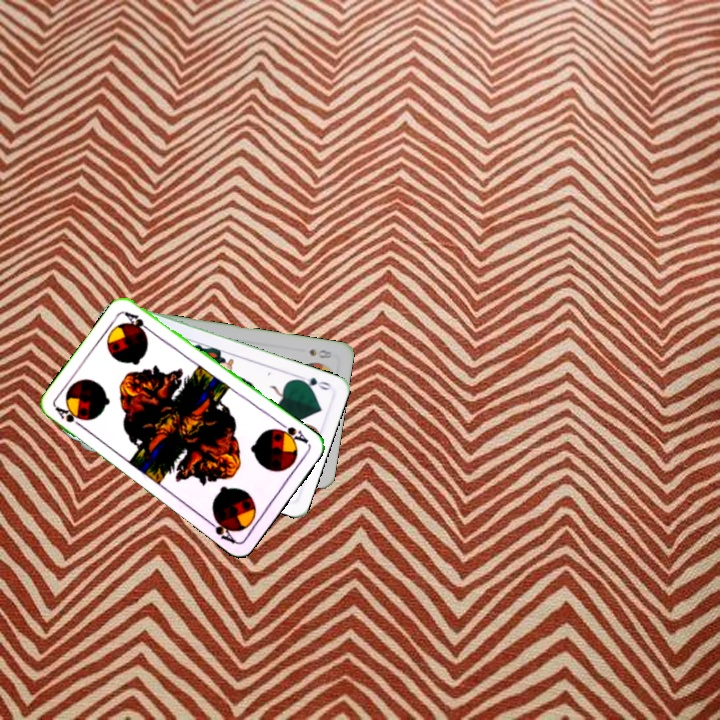GO: (293, 371, 333, 393)
S8: (305, 345, 335, 361)
SA: (272, 418, 311, 447), (51, 402, 88, 431)
